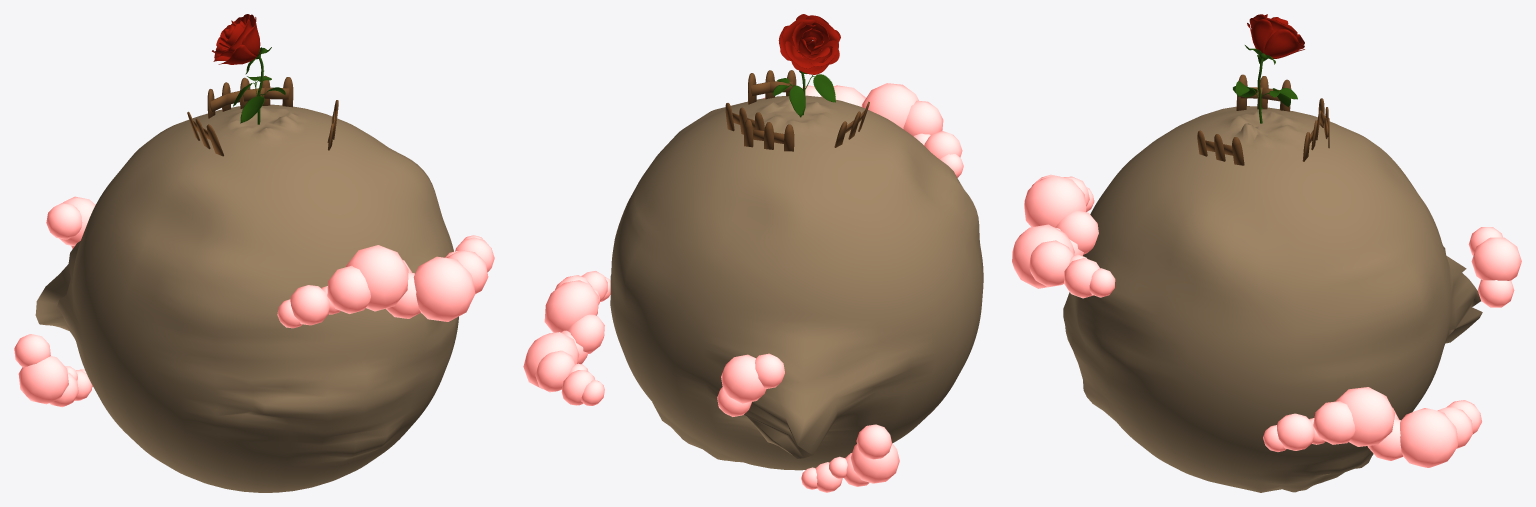
The model's file is little_prince_planet.glb.
3 views of the same model, side by side, from view 1: azimuth 30°, elevation 25°; view 2: azimuth 150°, elevation 25°; view 3: azimuth 270°, elevation 25° (orthographic). The views are drawn at different scales.
Visible parts, largest first — view 1: Sphere, Clouds, Fences, Rose, Stem; view 2: Sphere, Clouds, Fences, Rose, Stem; view 3: Sphere, Clouds, Fences, Rose, Stem.
Boxes of the visible parts, x1=… form: Sphere: x1=35, y1=104, x2=458, y2=492; Clouds: x1=14, y1=196, x2=494, y2=407; Fences: x1=187, y1=75, x2=338, y2=156; Rose: x1=212, y1=14, x2=260, y2=64; Stem: x1=233, y1=47, x2=285, y2=124; Sphere: x1=610, y1=95, x2=983, y2=470; Clouds: x1=523, y1=83, x2=963, y2=492; Fences: x1=725, y1=70, x2=869, y2=151; Rose: x1=778, y1=14, x2=840, y2=101; Stem: x1=773, y1=71, x2=835, y2=117; Sphere: x1=1063, y1=106, x2=1482, y2=492; Clouds: x1=1012, y1=174, x2=1521, y2=467; Fences: x1=1197, y1=74, x2=1329, y2=165; Rose: x1=1247, y1=14, x2=1304, y2=96; Stem: x1=1233, y1=45, x2=1297, y2=123.
Bounding box in the file's own units: 3.94 × 4.48 × 4.62.
